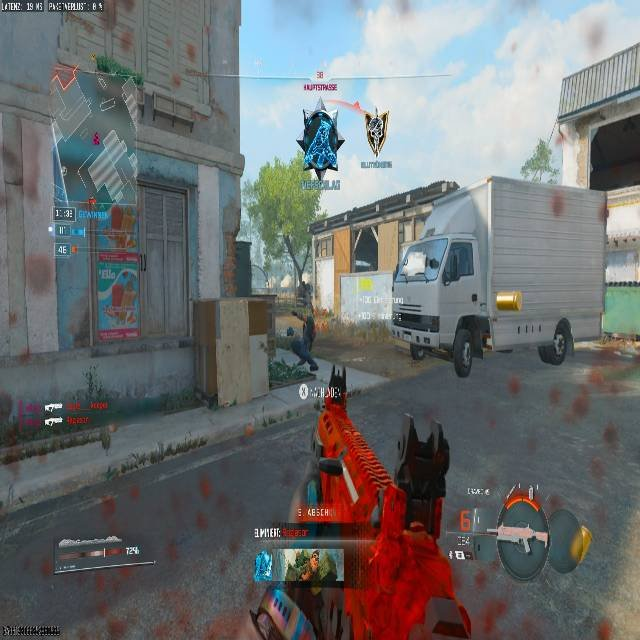player: (296, 108, 346, 184)
